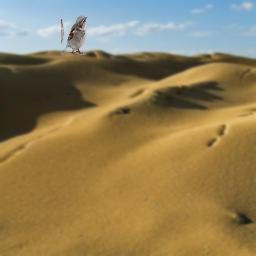Sparrow: (61, 15, 87, 55)
